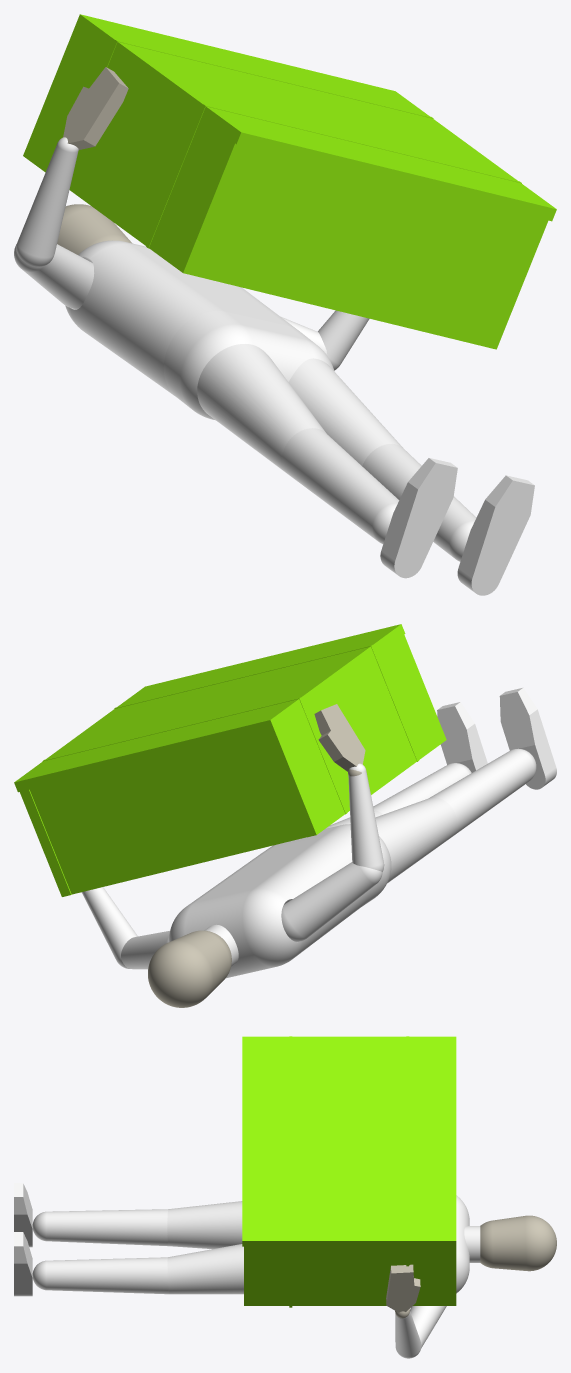
Rendered from homme carry.glb.
The picture shows the model from 3 angles, top to bottom: view 1: azimuth 30°, elevation 25°; view 2: azimuth 150°, elevation 25°; view 3: azimuth 270°, elevation 25°; orthographic projection. The views are drawn at different scales.
Visible parts, largest first — view 1: Part 2, Part 4, Part 3 (×2), Upper Leg__Upper Leg (×2), Torso__Torso, Foot__Foot (×2), Lower Leg__Lower Leg (×2), Pelvis-Abdomen__Pelvis-Abdomen, Lower Arm__Lower Arm (×2), Hand__Hand, Upper Arm__Upper Arm, Head__Head (+1 smaller); view 2: Part 1, Part 4, Part 3 (×2), Torso__Torso, Lower Leg__Lower Leg (×2), Foot__Foot (×2), Upper Arm__Upper Arm (×2), Head__Head, Lower Arm__Lower Arm (×2), Upper Leg__Upper Leg, Hand__Hand, Part 5 (×2) (+1 smaller); view 3: Part 4, Part 3, Lower Leg__Lower Leg (×2), Upper Leg__Upper Leg (×2), Head__Head, Foot__Foot (×2), Part 5 (×2), Torso__Torso, Hand__Hand, Lower Arm__Lower Arm, Upper Arm__Upper Arm.
Part boxes in pixels (x1=…): Part 2: x1=194, y1=147, x2=536, y2=346; Part 4: x1=75, y1=14, x2=556, y2=221; Part 3 (×2): x1=23, y1=26, x2=548, y2=349; Upper Leg__Upper Leg (×2): x1=197, y1=344, x2=402, y2=473; Torso__Torso: x1=65, y1=240, x2=295, y2=396; Foot__Foot (×2): x1=380, y1=458, x2=534, y2=595; Lower Leg__Lower Leg (×2): x1=281, y1=428, x2=476, y2=561; Pelvis-Abdomen__Pelvis-Abdomen: x1=163, y1=310, x2=334, y2=420; Lower Arm__Lower Arm (×2): x1=16, y1=137, x2=369, y2=370; Hand__Hand: x1=57, y1=67, x2=128, y2=149; Upper Arm__Upper Arm: x1=14, y1=244, x2=94, y2=309; Head__Head: x1=57, y1=204, x2=132, y2=254; Part 1: x1=29, y1=732, x2=306, y2=894; Part 4: x1=14, y1=624, x2=405, y2=792; Part 3 (×2): x1=16, y1=635, x2=446, y2=896; Torso__Torso: x1=169, y1=836, x2=371, y2=978; Lower Leg__Lower Leg (×2): x1=373, y1=748, x2=536, y2=836; Foot__Foot (×2): x1=437, y1=687, x2=556, y2=789; Upper Arm__Upper Arm (×2): x1=121, y1=862, x2=382, y2=969; Head__Head: x1=148, y1=930, x2=231, y2=1007; Lower Arm__Lower Arm (×2): x1=81, y1=763, x2=384, y2=968; Upper Leg__Upper Leg: x1=375, y1=797, x2=457, y2=883; Hand__Hand: x1=314, y1=704, x2=365, y2=776; Part 5 (×2): x1=42, y1=644, x2=419, y2=814; Part 4: x1=242, y1=1036, x2=456, y2=1246; Part 3: x1=244, y1=1246, x2=456, y2=1305; Lower Leg__Lower Leg (×2): x1=32, y1=1209, x2=169, y2=1294; Upper Leg__Upper Leg (×2): x1=167, y1=1201, x2=243, y2=1294; Head__Head: x1=480, y1=1215, x2=556, y2=1271; Foot__Foot (×2): x1=14, y1=1183, x2=32, y2=1296; Part 5 (×2): x1=289, y1=1036, x2=409, y2=1307; Torso__Torso: x1=456, y1=1195, x2=480, y2=1293; Hand__Hand: x1=386, y1=1264, x2=420, y2=1318; Lower Arm__Lower Arm: x1=395, y1=1311, x2=421, y2=1358; Upper Arm__Upper Arm: x1=410, y1=1306, x2=446, y2=1348.
Bounding box in the file's own units: 1.09 × 0.9572 × 1.86.
